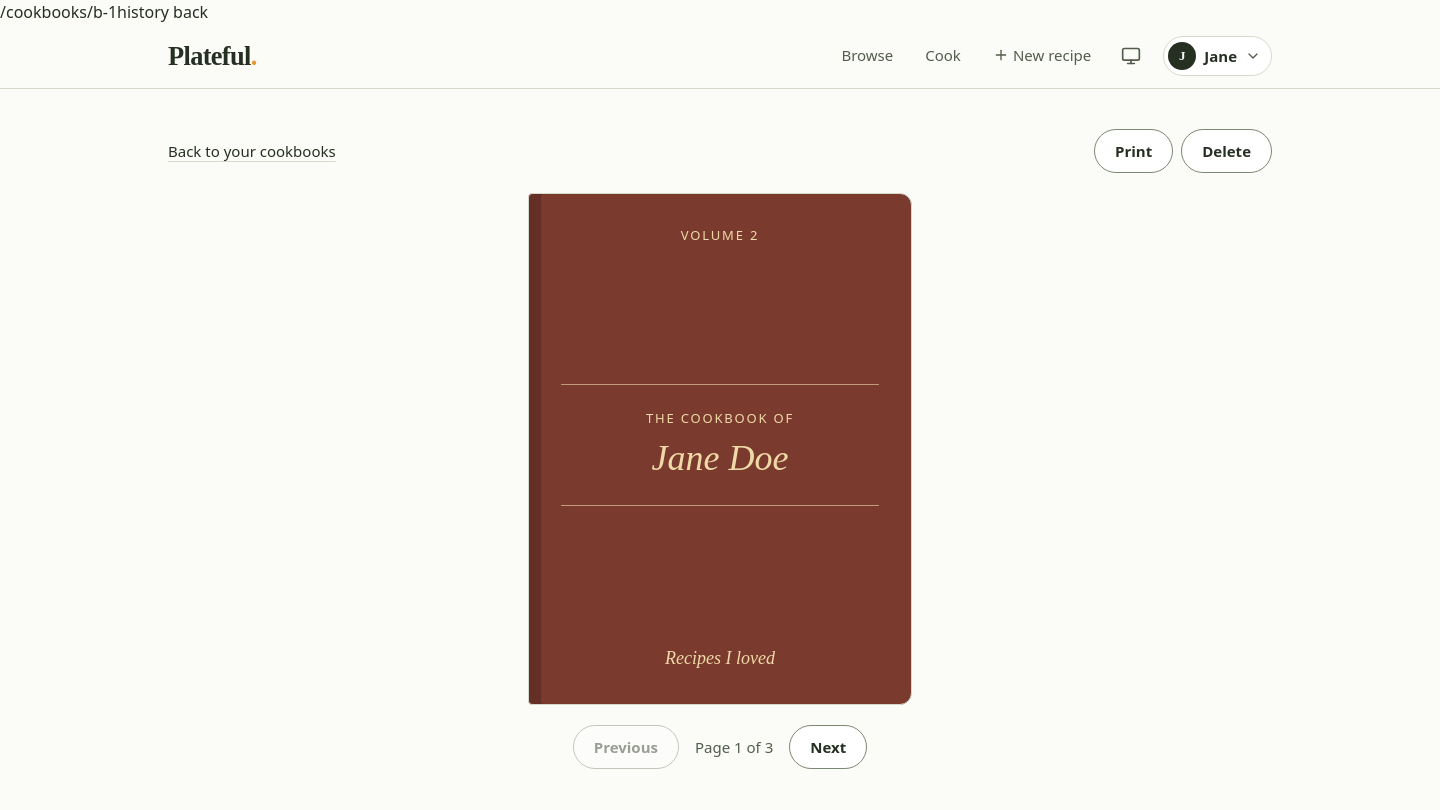
Test: deleting › cancellingDeletesNothing
Click the button "Delete" at (1227, 151), box [1181,129,1272,173]
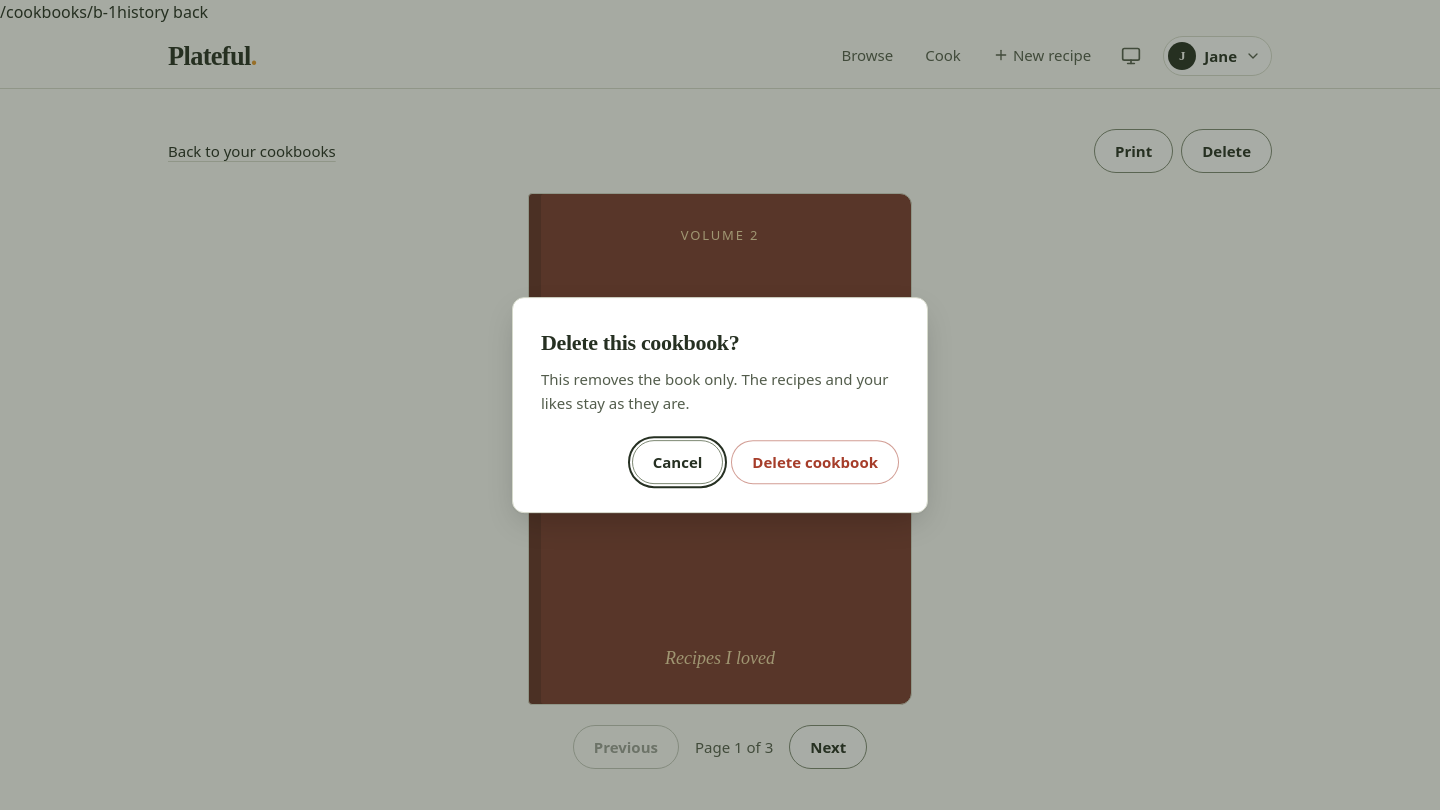
Click the button "Cancel" at (678, 462), box [632,440,723,484]
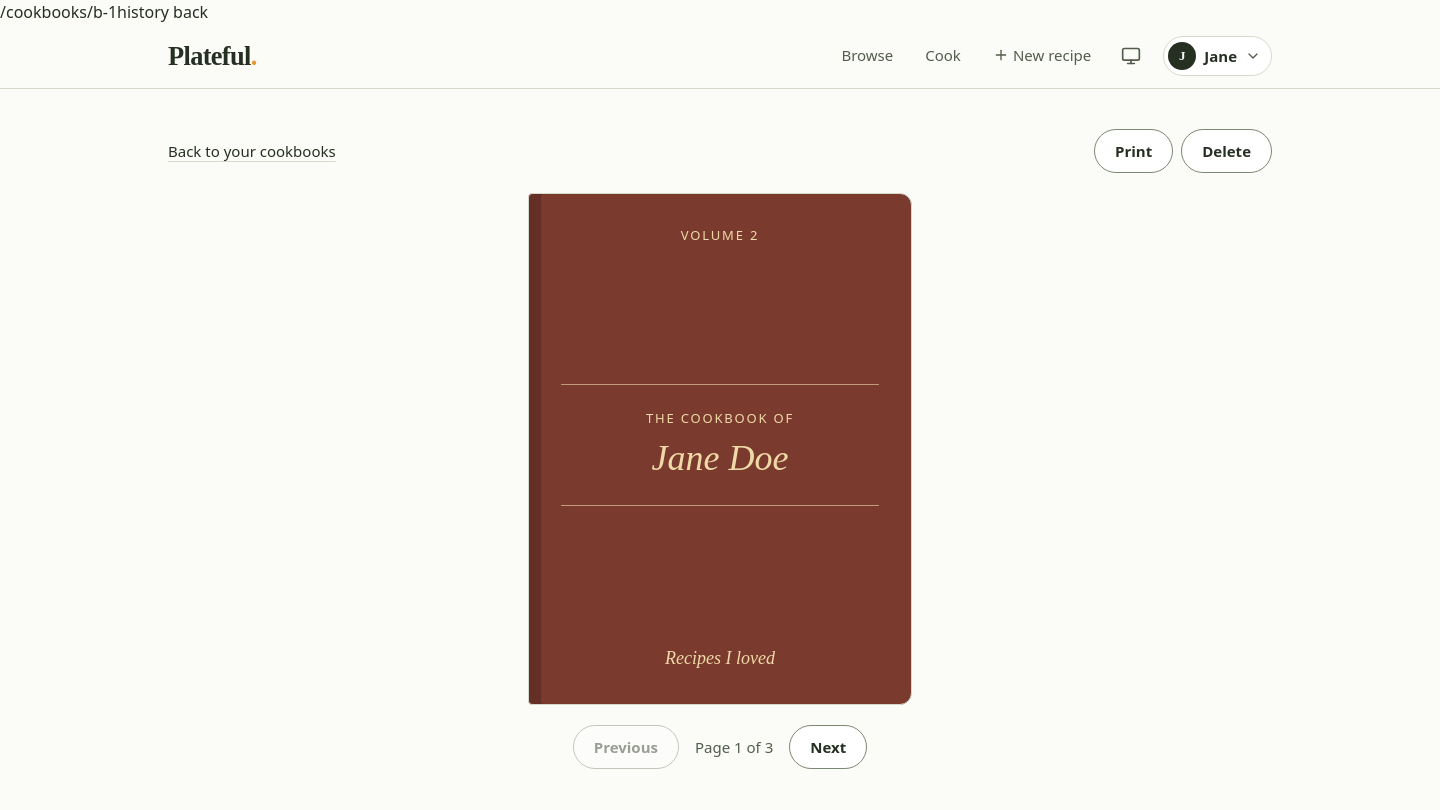
expect the text with test id "url" reads "/cookbooks/b-1": met, box [0,1,117,23]
expect the dialog is gone: met
